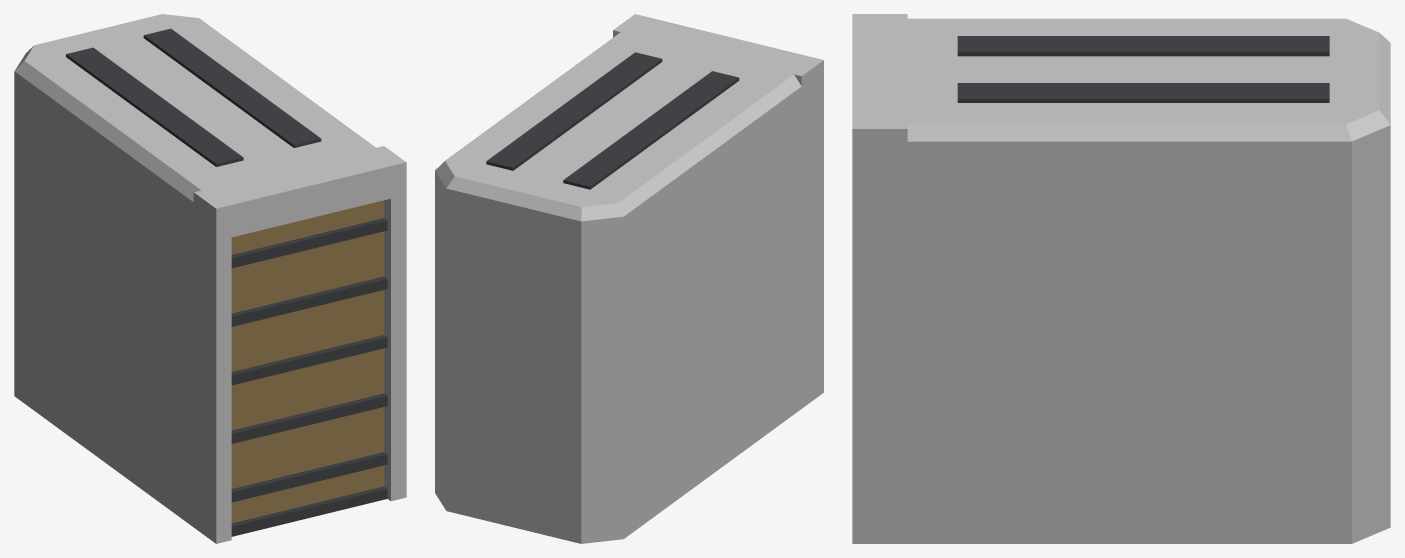
File: small_thruster.obj
3 renders of one model, left to right at view 1: azimuth 30°, elevation 25°; view 2: azimuth 150°, elevation 25°; view 3: azimuth 270°, elevation 25°, orthographic. The views are drawn at different scales.
Visible parts, largest first — view 1: small_thruster_0, small_thruster_6, small_thruster_1, small_thruster_2, small_thruster_4, small_thruster_3, small_thruster_13, small_thruster_12, small_thruster_9, small_thruster_10, small_thruster_11, small_thruster_7 (+2 smaller); view 2: small_thruster_0, small_thruster_1, small_thruster_2, small_thruster_12, small_thruster_13, small_thruster_4; view 3: small_thruster_0, small_thruster_1, small_thruster_3, small_thruster_12, small_thruster_13, small_thruster_4.
Boxes of the visible parts, bbox=[...] form: small_thruster_0: bbox=[14, 71, 193, 526]; small_thruster_6: bbox=[231, 200, 384, 523]; small_thruster_1: bbox=[15, 14, 375, 201]; small_thruster_2: bbox=[193, 188, 231, 543]; small_thruster_4: bbox=[209, 149, 390, 237]; small_thruster_3: bbox=[369, 146, 406, 501]; small_thruster_13: bbox=[143, 28, 321, 147]; small_thruster_12: bbox=[66, 47, 243, 166]; small_thruster_9: bbox=[231, 335, 387, 385]; small_thruster_10: bbox=[231, 276, 387, 326]; small_thruster_11: bbox=[231, 218, 387, 268]; small_thruster_7: bbox=[231, 452, 387, 502]; small_thruster_0: bbox=[435, 86, 801, 543]; small_thruster_1: bbox=[435, 32, 801, 221]; small_thruster_2: bbox=[786, 56, 823, 408]; small_thruster_12: bbox=[563, 71, 739, 189]; small_thruster_13: bbox=[486, 52, 662, 170]; small_thruster_4: bbox=[629, 18, 807, 72]; small_thruster_0: bbox=[907, 125, 1390, 543]; small_thruster_1: bbox=[907, 18, 1390, 141]; small_thruster_3: bbox=[852, 119, 907, 543]; small_thruster_12: bbox=[957, 36, 1329, 56]; small_thruster_13: bbox=[957, 83, 1329, 102]; small_thruster_4: bbox=[852, 23, 907, 119].
Bounding box in the file's own units: 0.98 × 1.66 × 1.94.
